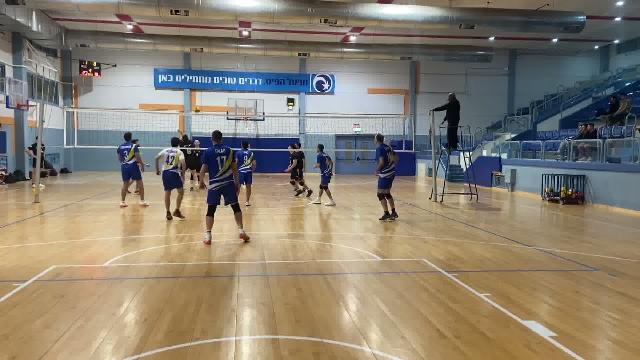ball: (193, 106, 203, 115)
